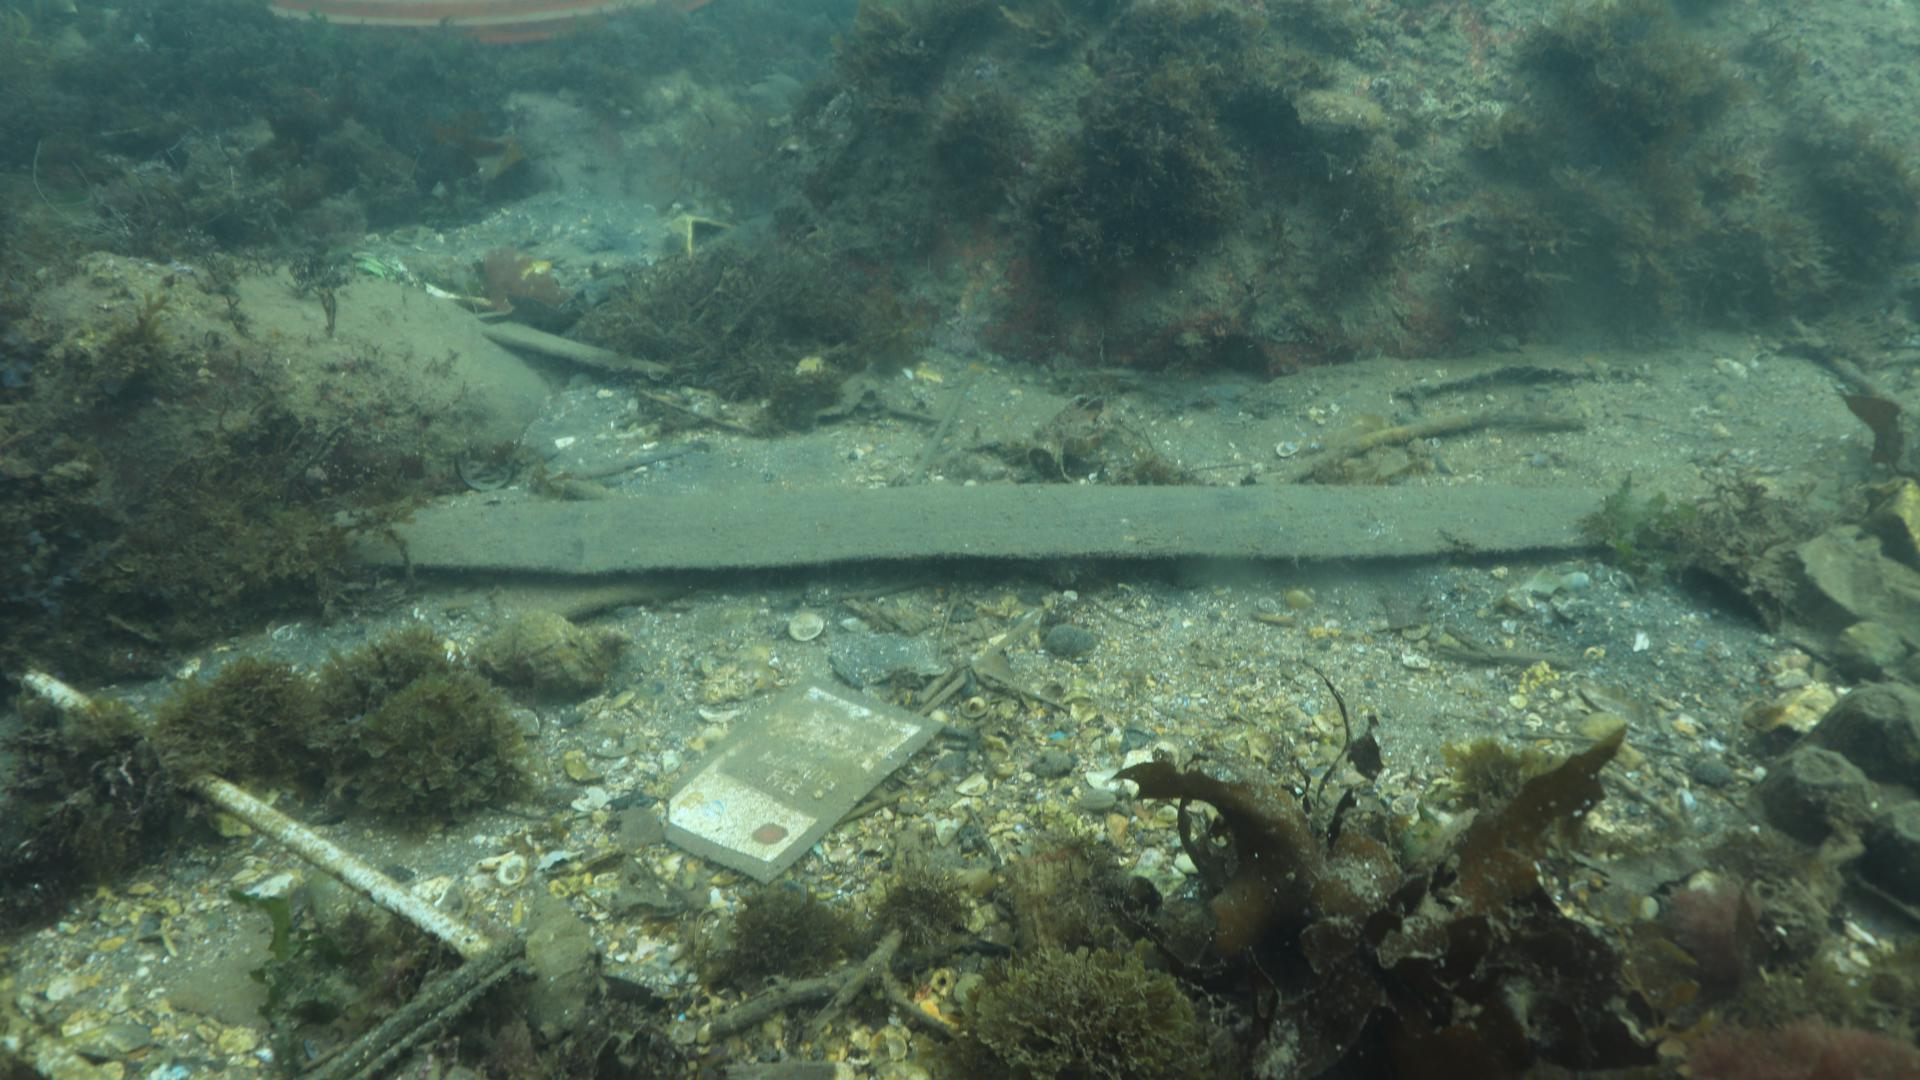wood: (331, 477, 1621, 579)
